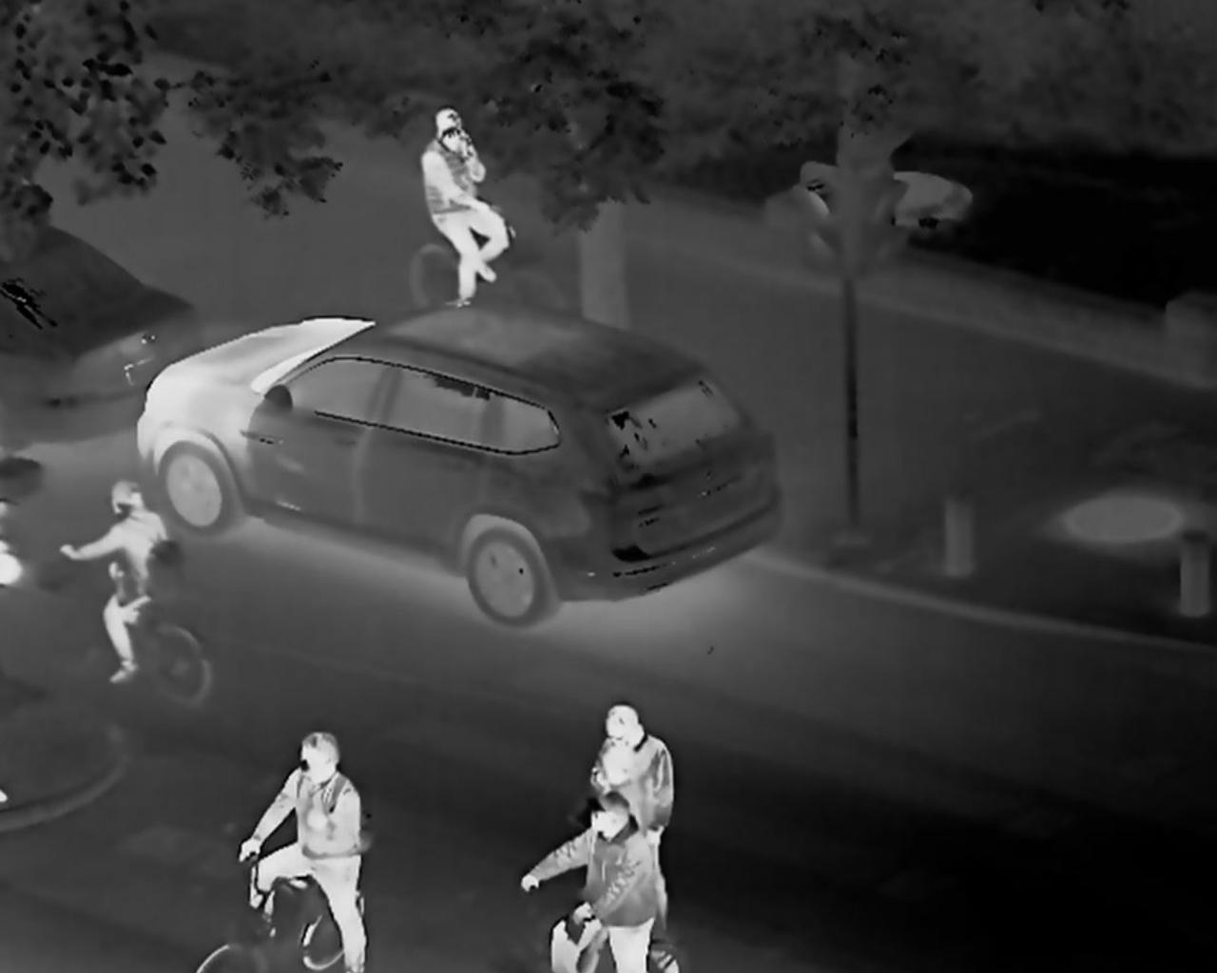person: (426, 88, 583, 317), (267, 721, 392, 945), (88, 467, 201, 678), (559, 802, 677, 973), (595, 691, 700, 823)
